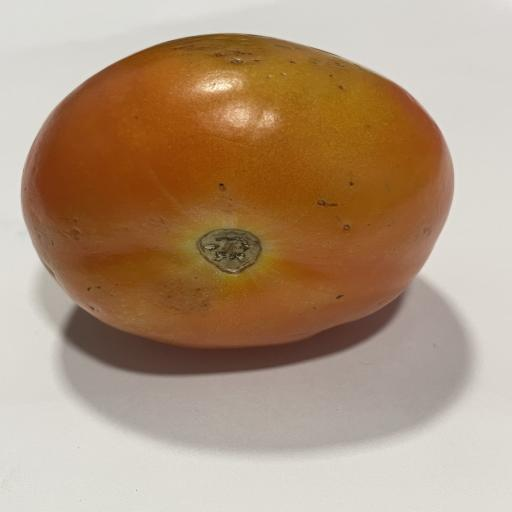ripe: (22, 34, 453, 348)
